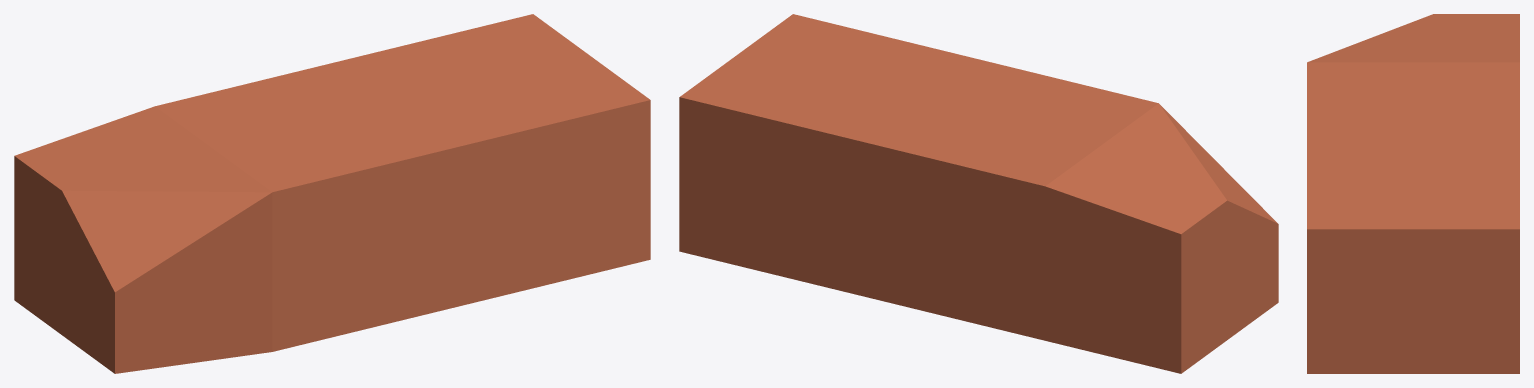
File: Brick_02.fbx
3 renders of one model, left to right at view 1: azimuth 30°, elevation 25°; view 2: azimuth 150°, elevation 25°; view 3: azimuth 270°, elevation 25°, orthographic. The views are drawn at different scales.
Parts seen in each view (by area): view 1: Brick_02; view 2: Brick_02; view 3: Brick_02.
Part boxes in pixels (left/top/right/bottom): Brick_02: left=14, top=14, right=650, bottom=373; Brick_02: left=679, top=14, right=1278, bottom=373; Brick_02: left=1307, top=14, right=1519, bottom=373.
Size of the model in its own units: 25.5 by 7.5 by 10.
